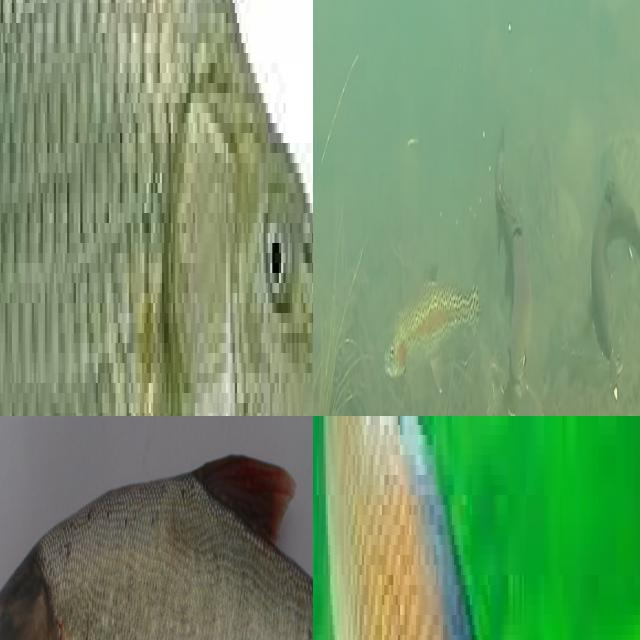fish: (0, 0, 313, 416), (313, 61, 583, 416), (313, 416, 640, 640), (0, 416, 313, 640)
